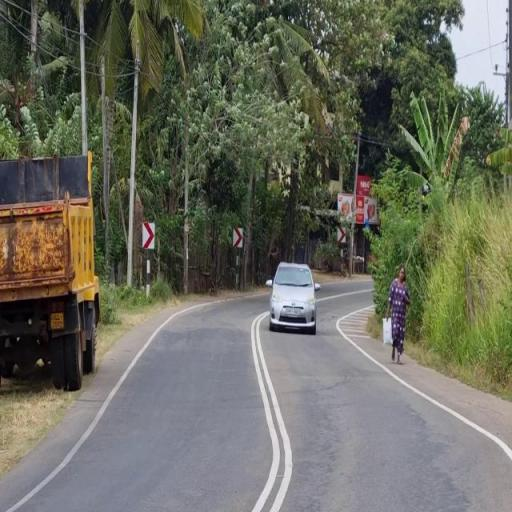double_white_line: (246, 308, 292, 510), (0, 0, 34, 42)
